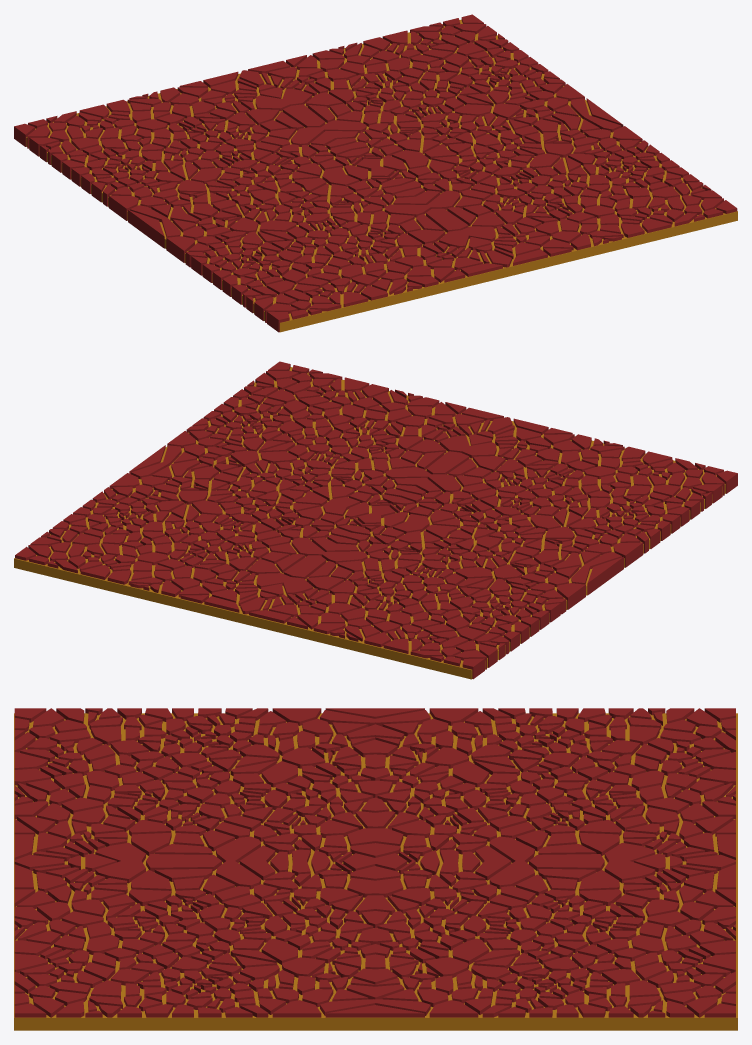
Rendered from Lava.fbx.
3 renders of one model, top to bottom at view 1: azimuth 30°, elevation 25°; view 2: azimuth 150°, elevation 25°; view 3: azimuth 270°, elevation 25°, orthographic. The views are drawn at different scales.
Visible parts, largest first — view 1: Just Lava; view 2: Just Lava; view 3: Just Lava.
Boxes of the visible parts, x1,y1,x2,y2 form: Just Lava: (14,14,737,332); Just Lava: (14,361,737,679); Just Lava: (14,708,737,1030).
Size of the model in its own units: 29585 by 762 by 29661.
